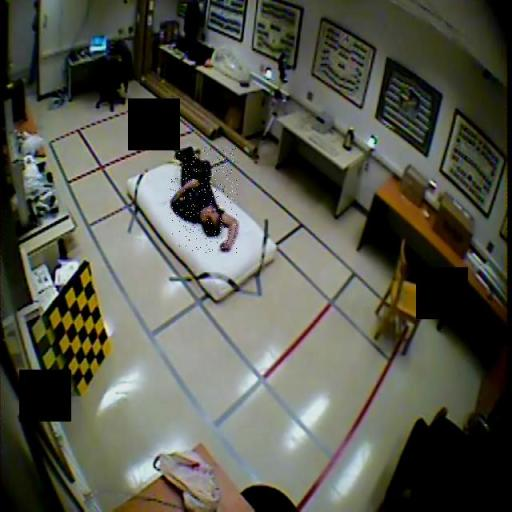Fall: (171, 147, 238, 253)
